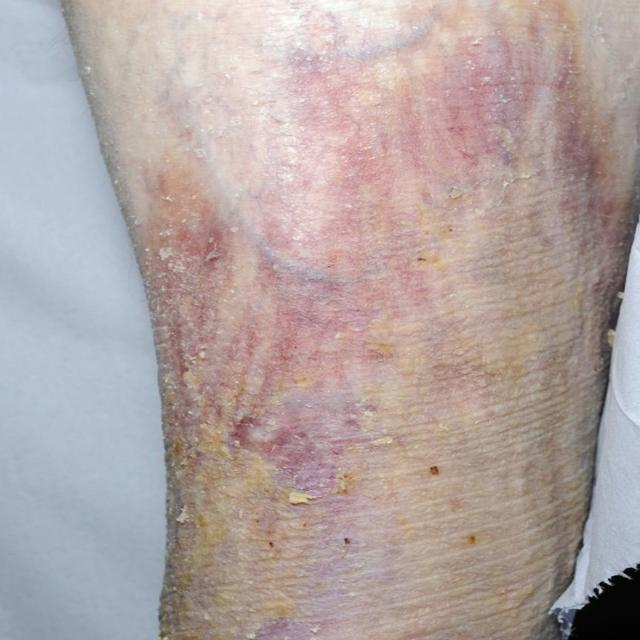wound: (180, 77, 507, 572)
